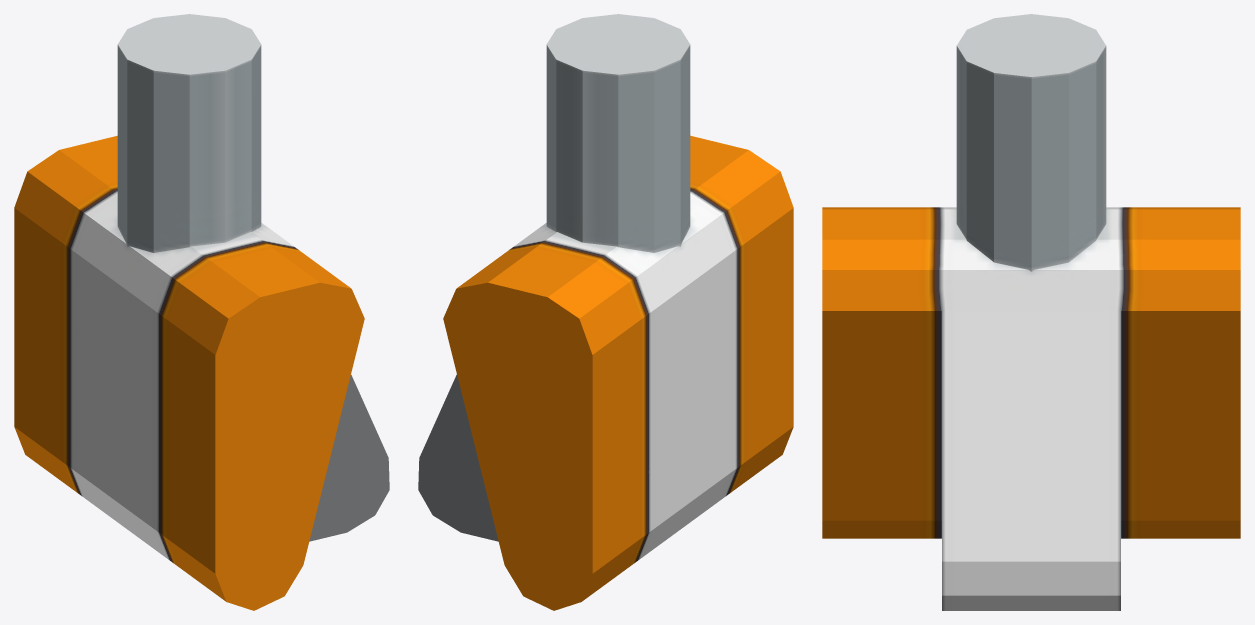
Rendered from R_WRIST_Y_S.dae.
The picture shows the model from 3 angles, left to right: view 1: azimuth 30°, elevation 25°; view 2: azimuth 150°, elevation 25°; view 3: azimuth 270°, elevation 25°; orthographic projection. The views are drawn at different scales.
Visible parts, largest first — view 1: root; view 2: root; view 3: root.
Part boxes in pixels (x1,y1,x2,y2): root: [14, 14, 389, 610]; root: [418, 14, 793, 610]; root: [822, 14, 1240, 610].
Bounding box in the file's own units: 0.0465 × 0.07 × 0.093.
Materials: 1 (1 with a texture image).
